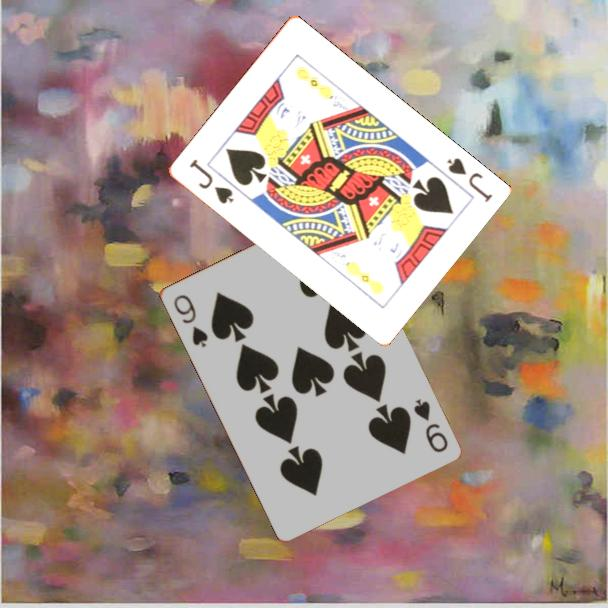s09: (410, 395, 451, 455), (170, 291, 210, 350)
s11: (443, 154, 495, 206), (185, 155, 236, 207)
